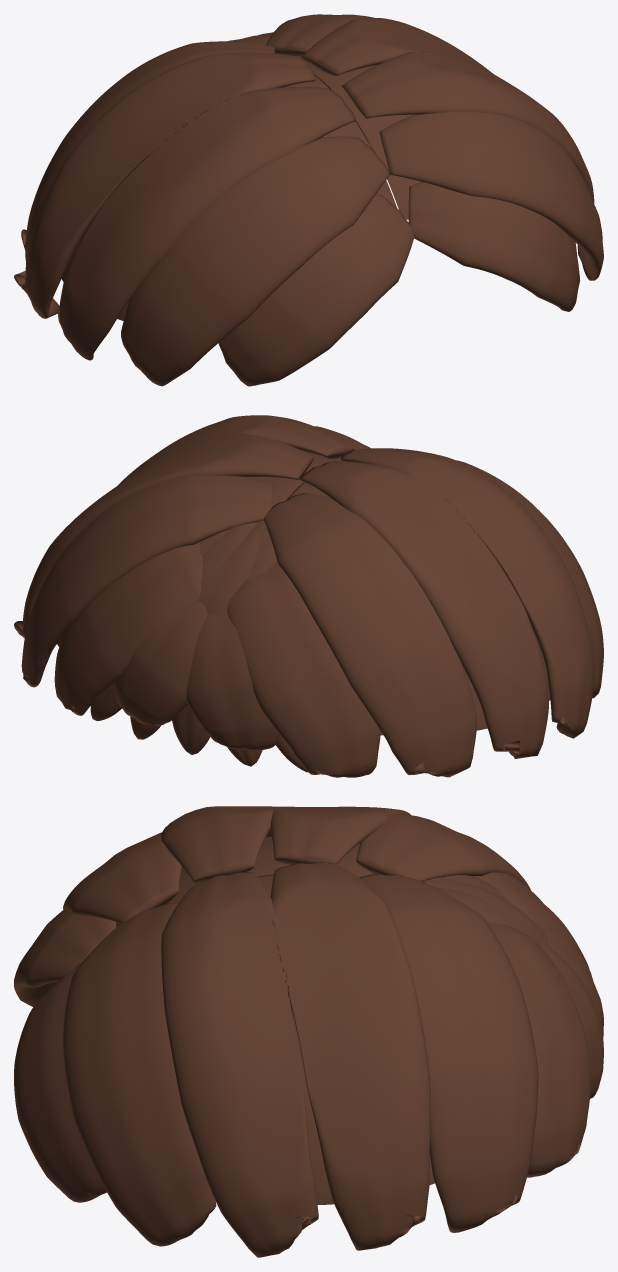
Rendered from Masculine-middle-part-pashmina260-hair.glb.
3 renders of one model, top to bottom at view 1: azimuth 30°, elevation 25°; view 2: azimuth 150°, elevation 25°; view 3: azimuth 270°, elevation 25°, orthographic. The views are drawn at different scales.
Parts seen in each view (by area): view 1: 226 hair / Hair260 / layered middle-part; view 2: 226 hair / Hair260 / layered middle-part; view 3: 226 hair / Hair260 / layered middle-part.
Boxes of the visible parts, <box> form: 226 hair / Hair260 / layered middle-part: <box>14,14,603,386</box>; 226 hair / Hair260 / layered middle-part: <box>14,415,603,777</box>; 226 hair / Hair260 / layered middle-part: <box>14,806,603,1257</box>.
Size of the model in its own units: 1.03 by 0.4506 by 0.8741.
